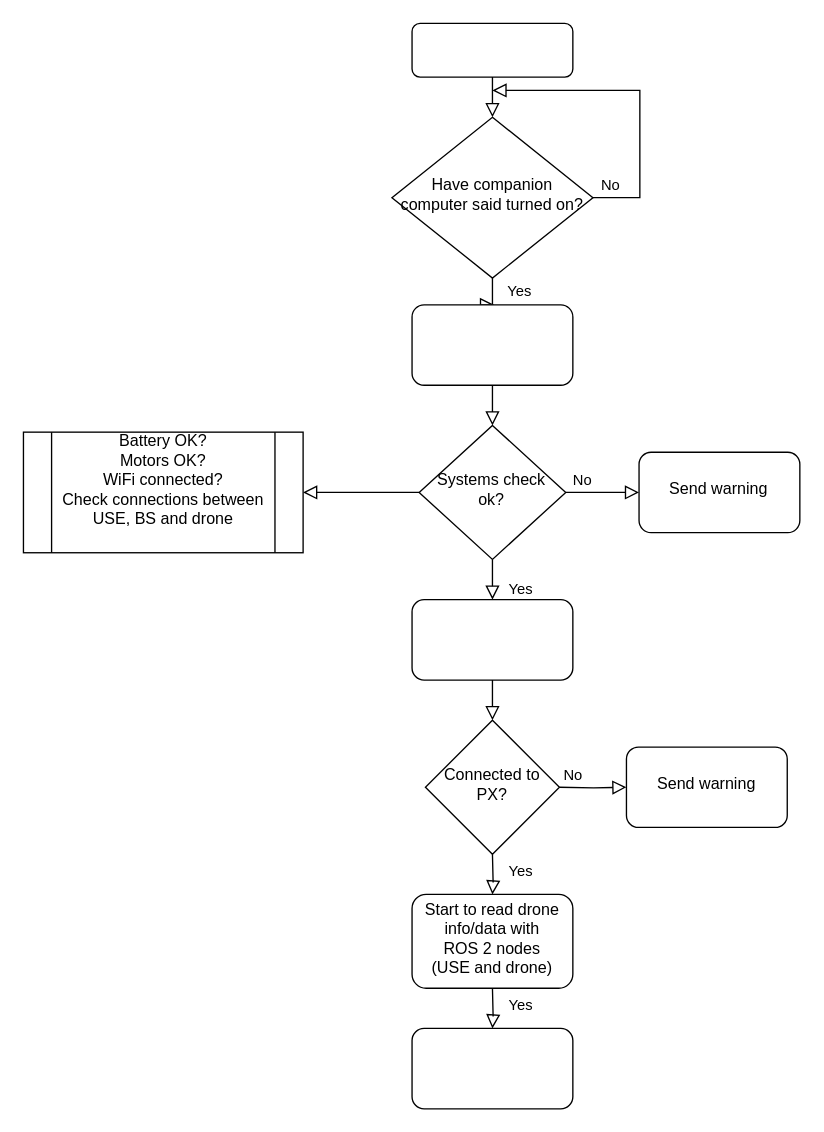
This 824x1132 diagram has some shape labels left out. Each missing label, with the box of its shape:
Connect to PX via MicroRTPS: (411, 598, 573, 680)
End of startup: (411, 1027, 573, 1109)
Power on in drones: (411, 22, 573, 77)
Run systems check: (411, 304, 573, 385)
